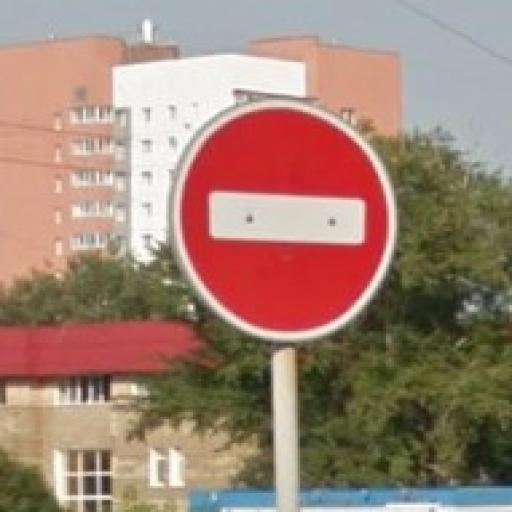traffic_sign: (170, 99, 403, 344)
